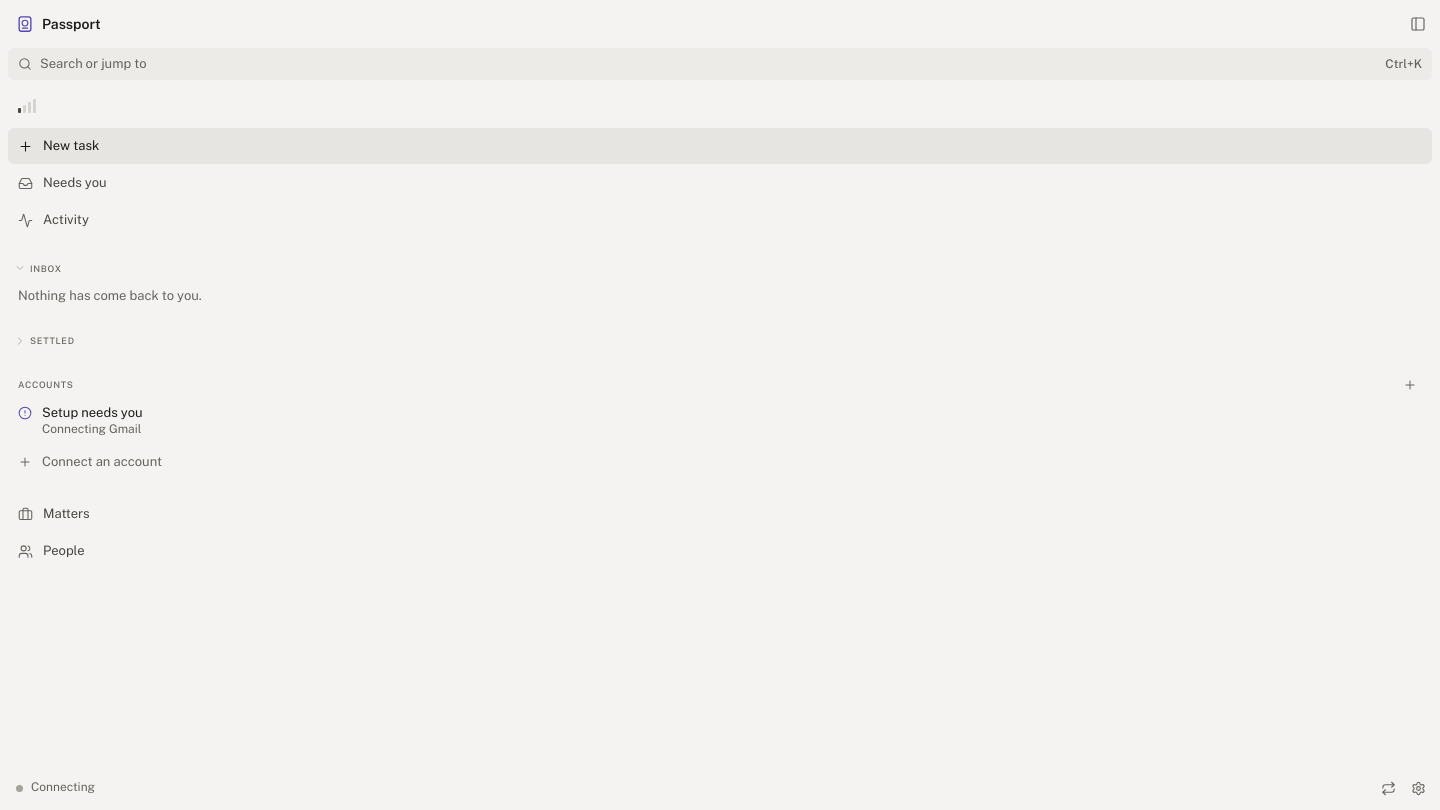
Scenario: setup task outlives the connect dialog › V2-12: the sidebar shows a waiting setup while the dialog is closed and reopens it
Click the button "Setup needs you Connecting Gmail" at (92, 412), box [8, 399, 1432, 443]
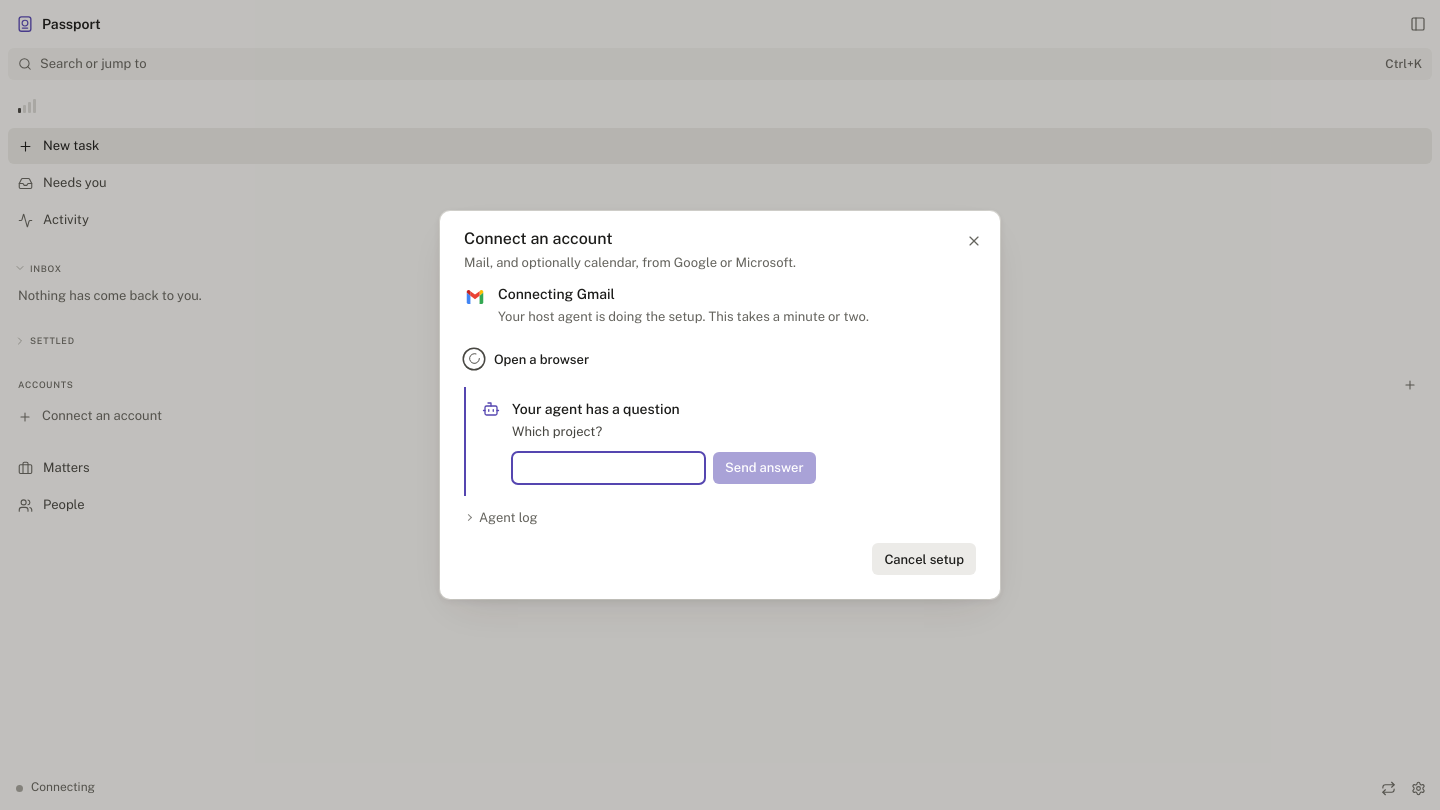
Expected: the field named "Your answer" is shown, [512, 452, 705, 484]
Expected: the button "Setup needs you" is gone
